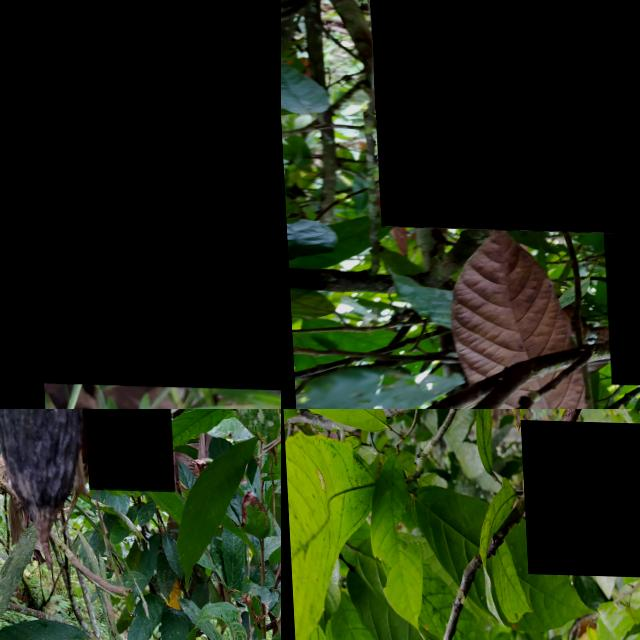Fitoftora: (365, 0, 640, 232), (0, 409, 91, 549), (74, 409, 170, 489)
Monilia: (518, 418, 640, 577), (597, 149, 640, 386), (0, 216, 39, 409)
Sana: (0, 0, 281, 388)
